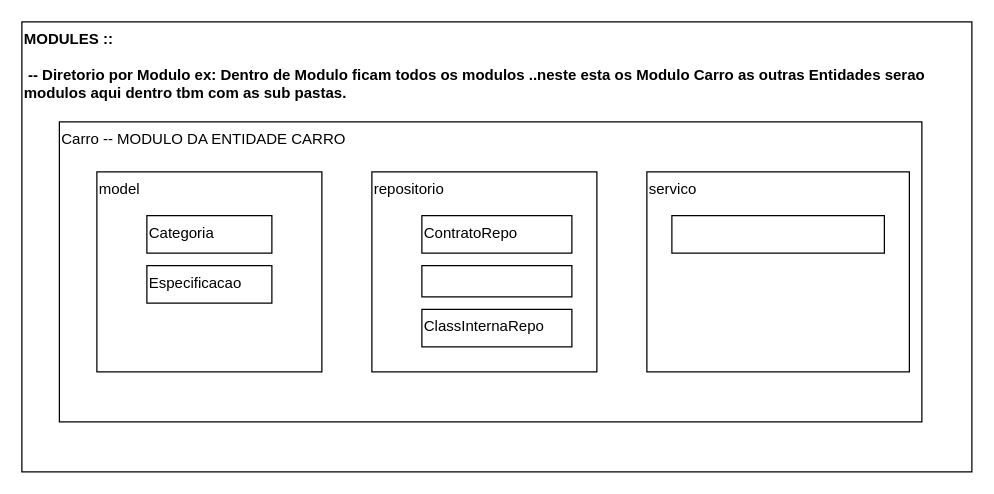
This 994x494 diagram has some shape labels left out. Each missing label, with the centre of its shape:
CasoDeUsoFAZALGO_Service: the point at 777,233
ClassExternaRepo: the point at 496,280
